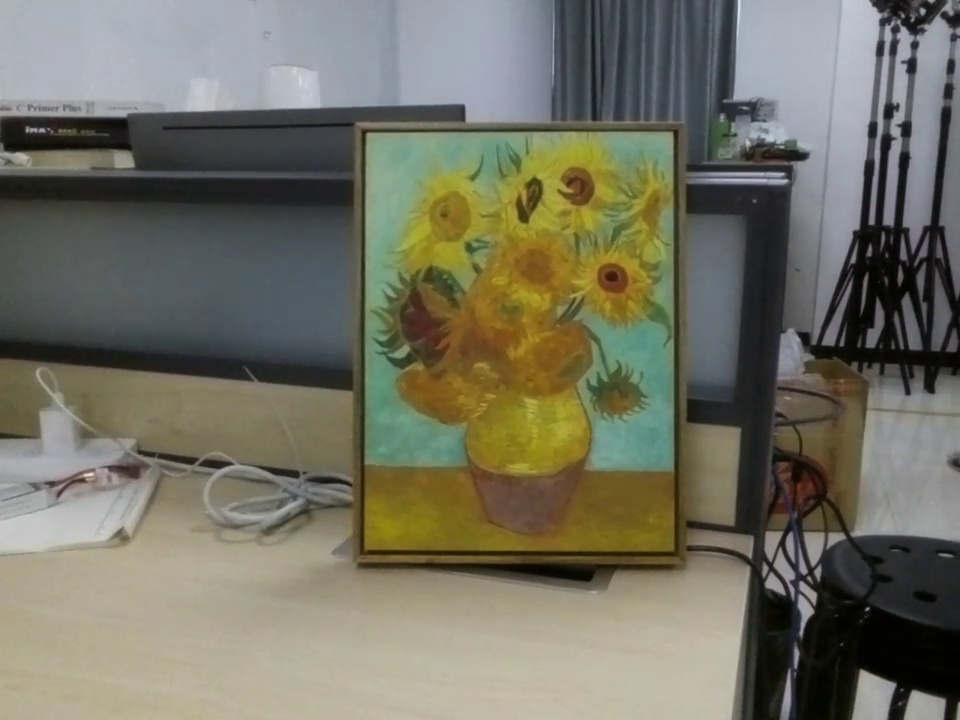painting: (353, 118, 694, 574)
